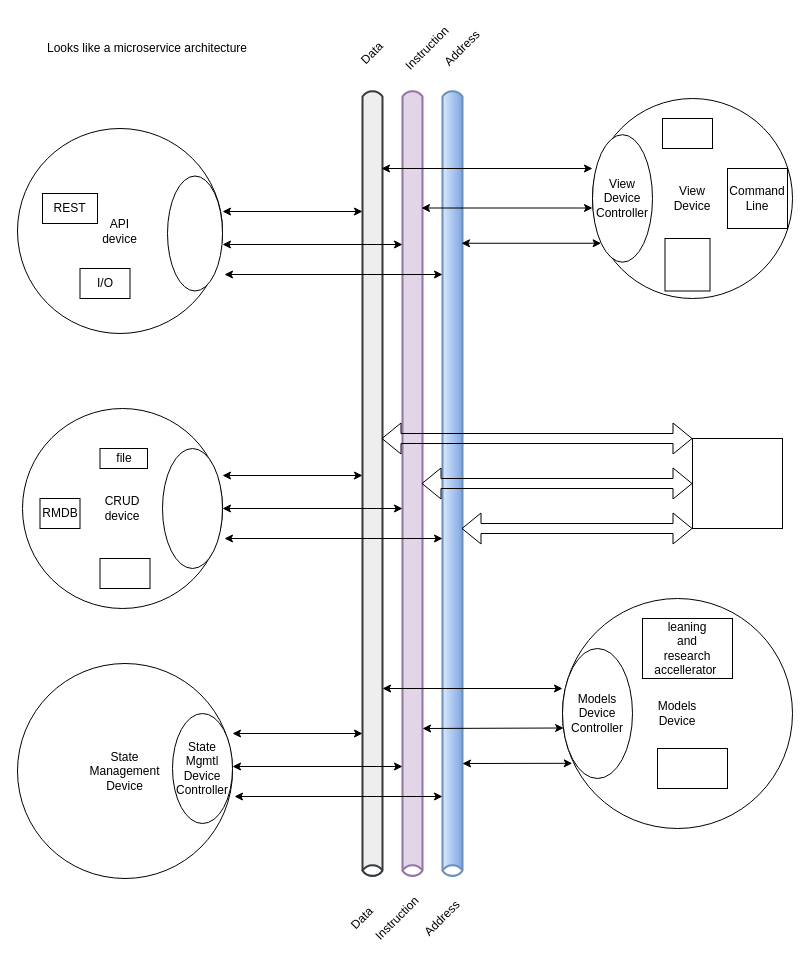
The diagram is 810 pixels wide and 968 high, and some of its shapes have lost their labels. Each missing label, with the centre of its shape:
"API Device Controller" belongs at pixel 194 233.
"Controller Core" belongs at pixel 737 483.
"CRUD Device Controller" belongs at pixel 192 508.
"eisenban" belongs at pixel 692 768.
"Java" belongs at pixel 687 133.
"NOSQL" belongs at pixel 124 573.
"Qt PyQt QML" belongs at pixel 687 264.
